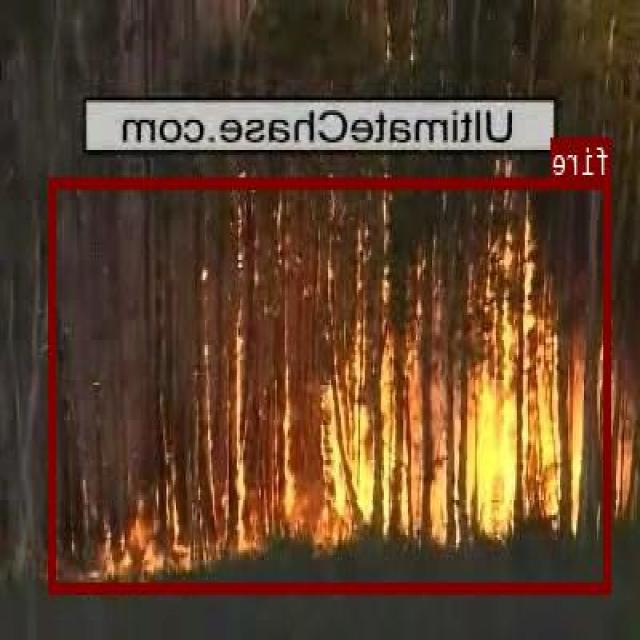fire: (50, 176, 613, 591)
